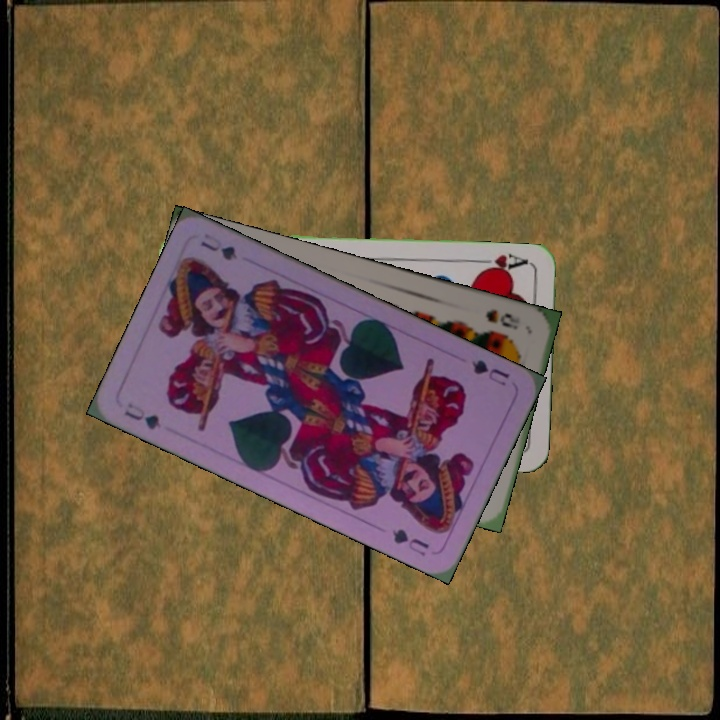GU: (467, 355, 512, 389), (120, 399, 164, 433)
HA: (473, 249, 532, 277)
S8: (481, 305, 523, 332)
